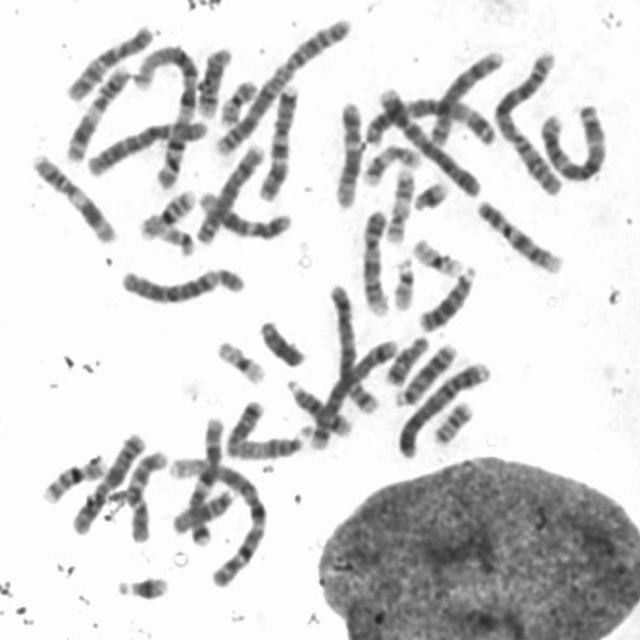A1: (167, 451, 270, 588), (130, 38, 200, 192)
A2: (211, 14, 355, 157), (488, 46, 567, 198)
A3: (360, 91, 499, 150), (535, 98, 610, 184)
B4: (370, 82, 482, 199), (392, 355, 492, 459)
B5: (305, 334, 402, 452), (324, 280, 382, 416)
C10: (64, 20, 156, 104), (123, 444, 171, 544)
C11: (26, 149, 121, 247), (61, 61, 132, 164)
C12: (194, 188, 295, 242), (330, 97, 364, 209)
C6: (82, 116, 210, 178), (115, 263, 249, 307)
C7: (185, 410, 228, 547), (254, 80, 301, 202)
C8: (424, 45, 508, 148), (192, 137, 266, 248)
C9: (472, 194, 564, 275), (358, 204, 391, 317)
D13: (390, 338, 459, 408), (414, 260, 479, 333)
D14: (282, 375, 354, 439), (193, 42, 234, 118)
D15: (227, 424, 316, 464), (170, 489, 238, 539)
E16: (39, 452, 109, 506), (135, 184, 199, 241)
E17: (359, 140, 422, 187), (381, 164, 416, 245)
E18: (380, 331, 432, 386), (223, 398, 266, 460)
F19: (212, 336, 268, 386), (407, 233, 467, 279)
F20: (430, 396, 475, 446), (216, 74, 258, 127)
G21: (111, 570, 172, 602), (408, 175, 452, 213)
G22: (149, 216, 196, 258), (389, 254, 417, 312)
X: (68, 427, 147, 538)
Y: (254, 314, 307, 369)
